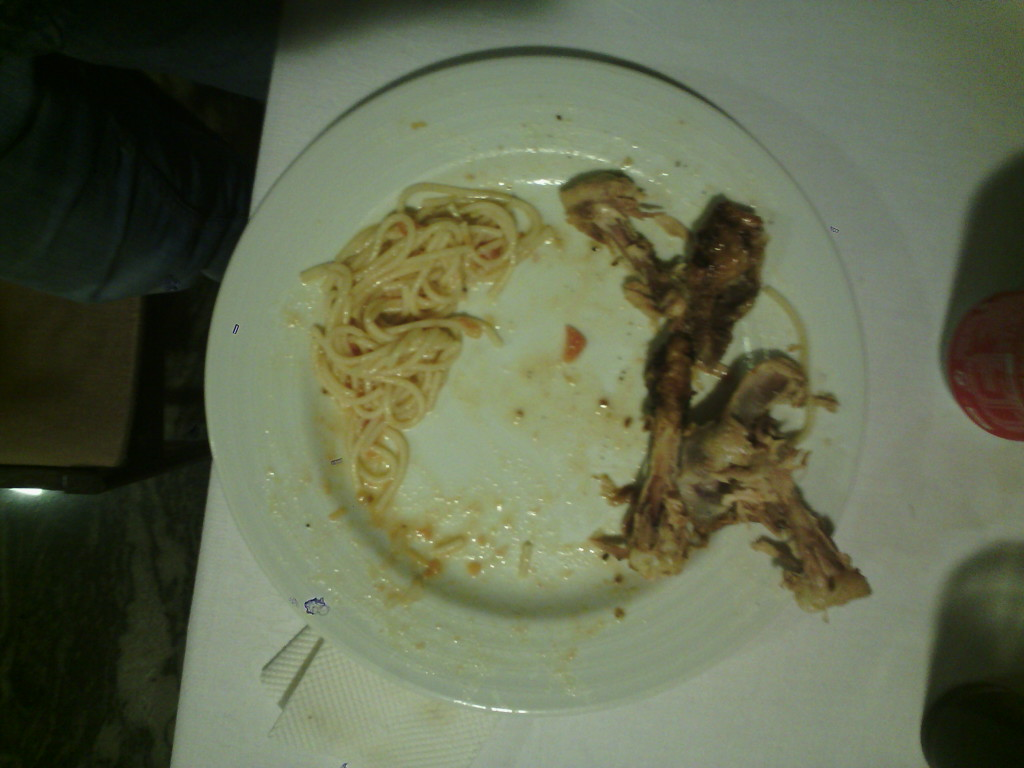21-40: (209, 54, 873, 719)
